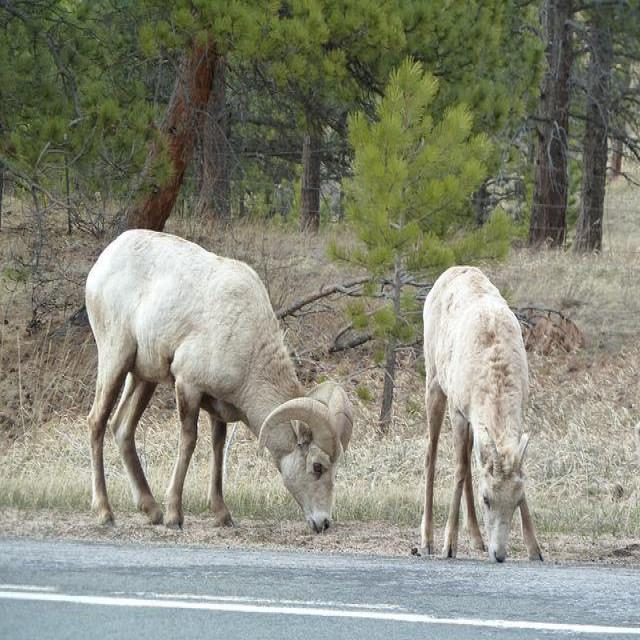Sheep: (84, 228, 351, 535), (419, 263, 548, 568)
